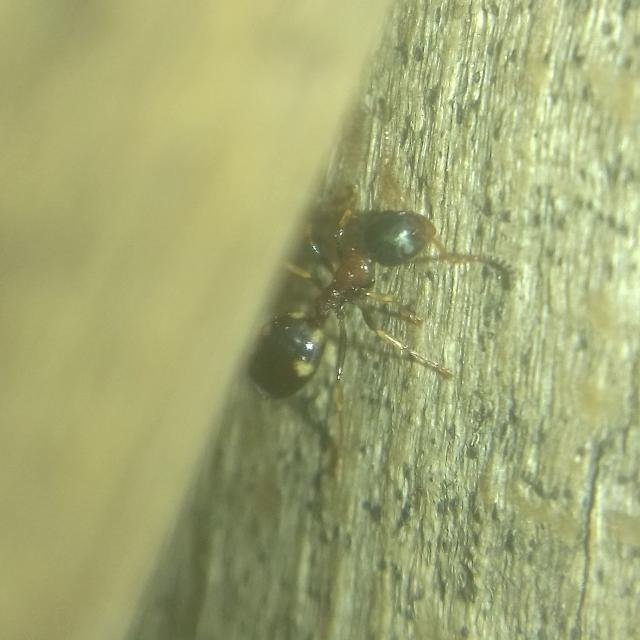Dolichoderus: (218, 167, 470, 433)
